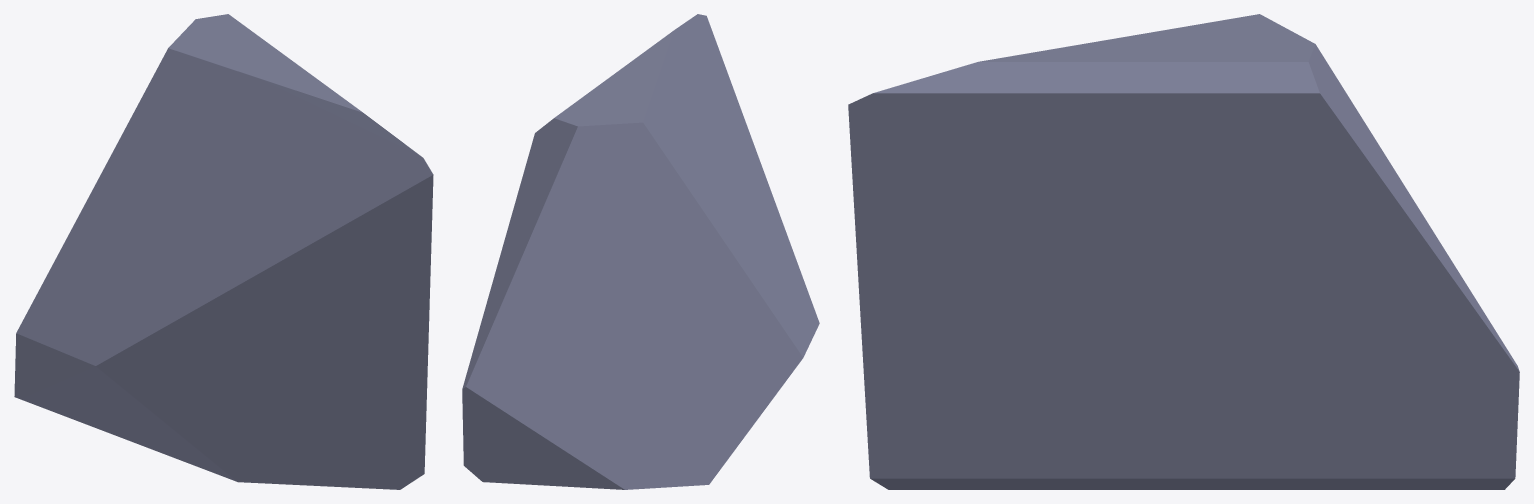
The model's file is SingleChunkOfAccent.fbx.
3 renders of one model, left to right at view 1: azimuth 30°, elevation 25°; view 2: azimuth 150°, elevation 25°; view 3: azimuth 270°, elevation 25°, orthographic. The views are drawn at different scales.
Parts seen in each view (by area): view 1: BeveledAccentBrick.001_cell.003; view 2: BeveledAccentBrick.001_cell.003; view 3: BeveledAccentBrick.001_cell.003.
Part boxes in pixels (x1,y1,x2,y2): BeveledAccentBrick.001_cell.003: (14, 14, 433, 489); BeveledAccentBrick.001_cell.003: (462, 14, 819, 489); BeveledAccentBrick.001_cell.003: (848, 14, 1519, 489).
Bounding box in the file's own units: 157 × 200 × 284.
